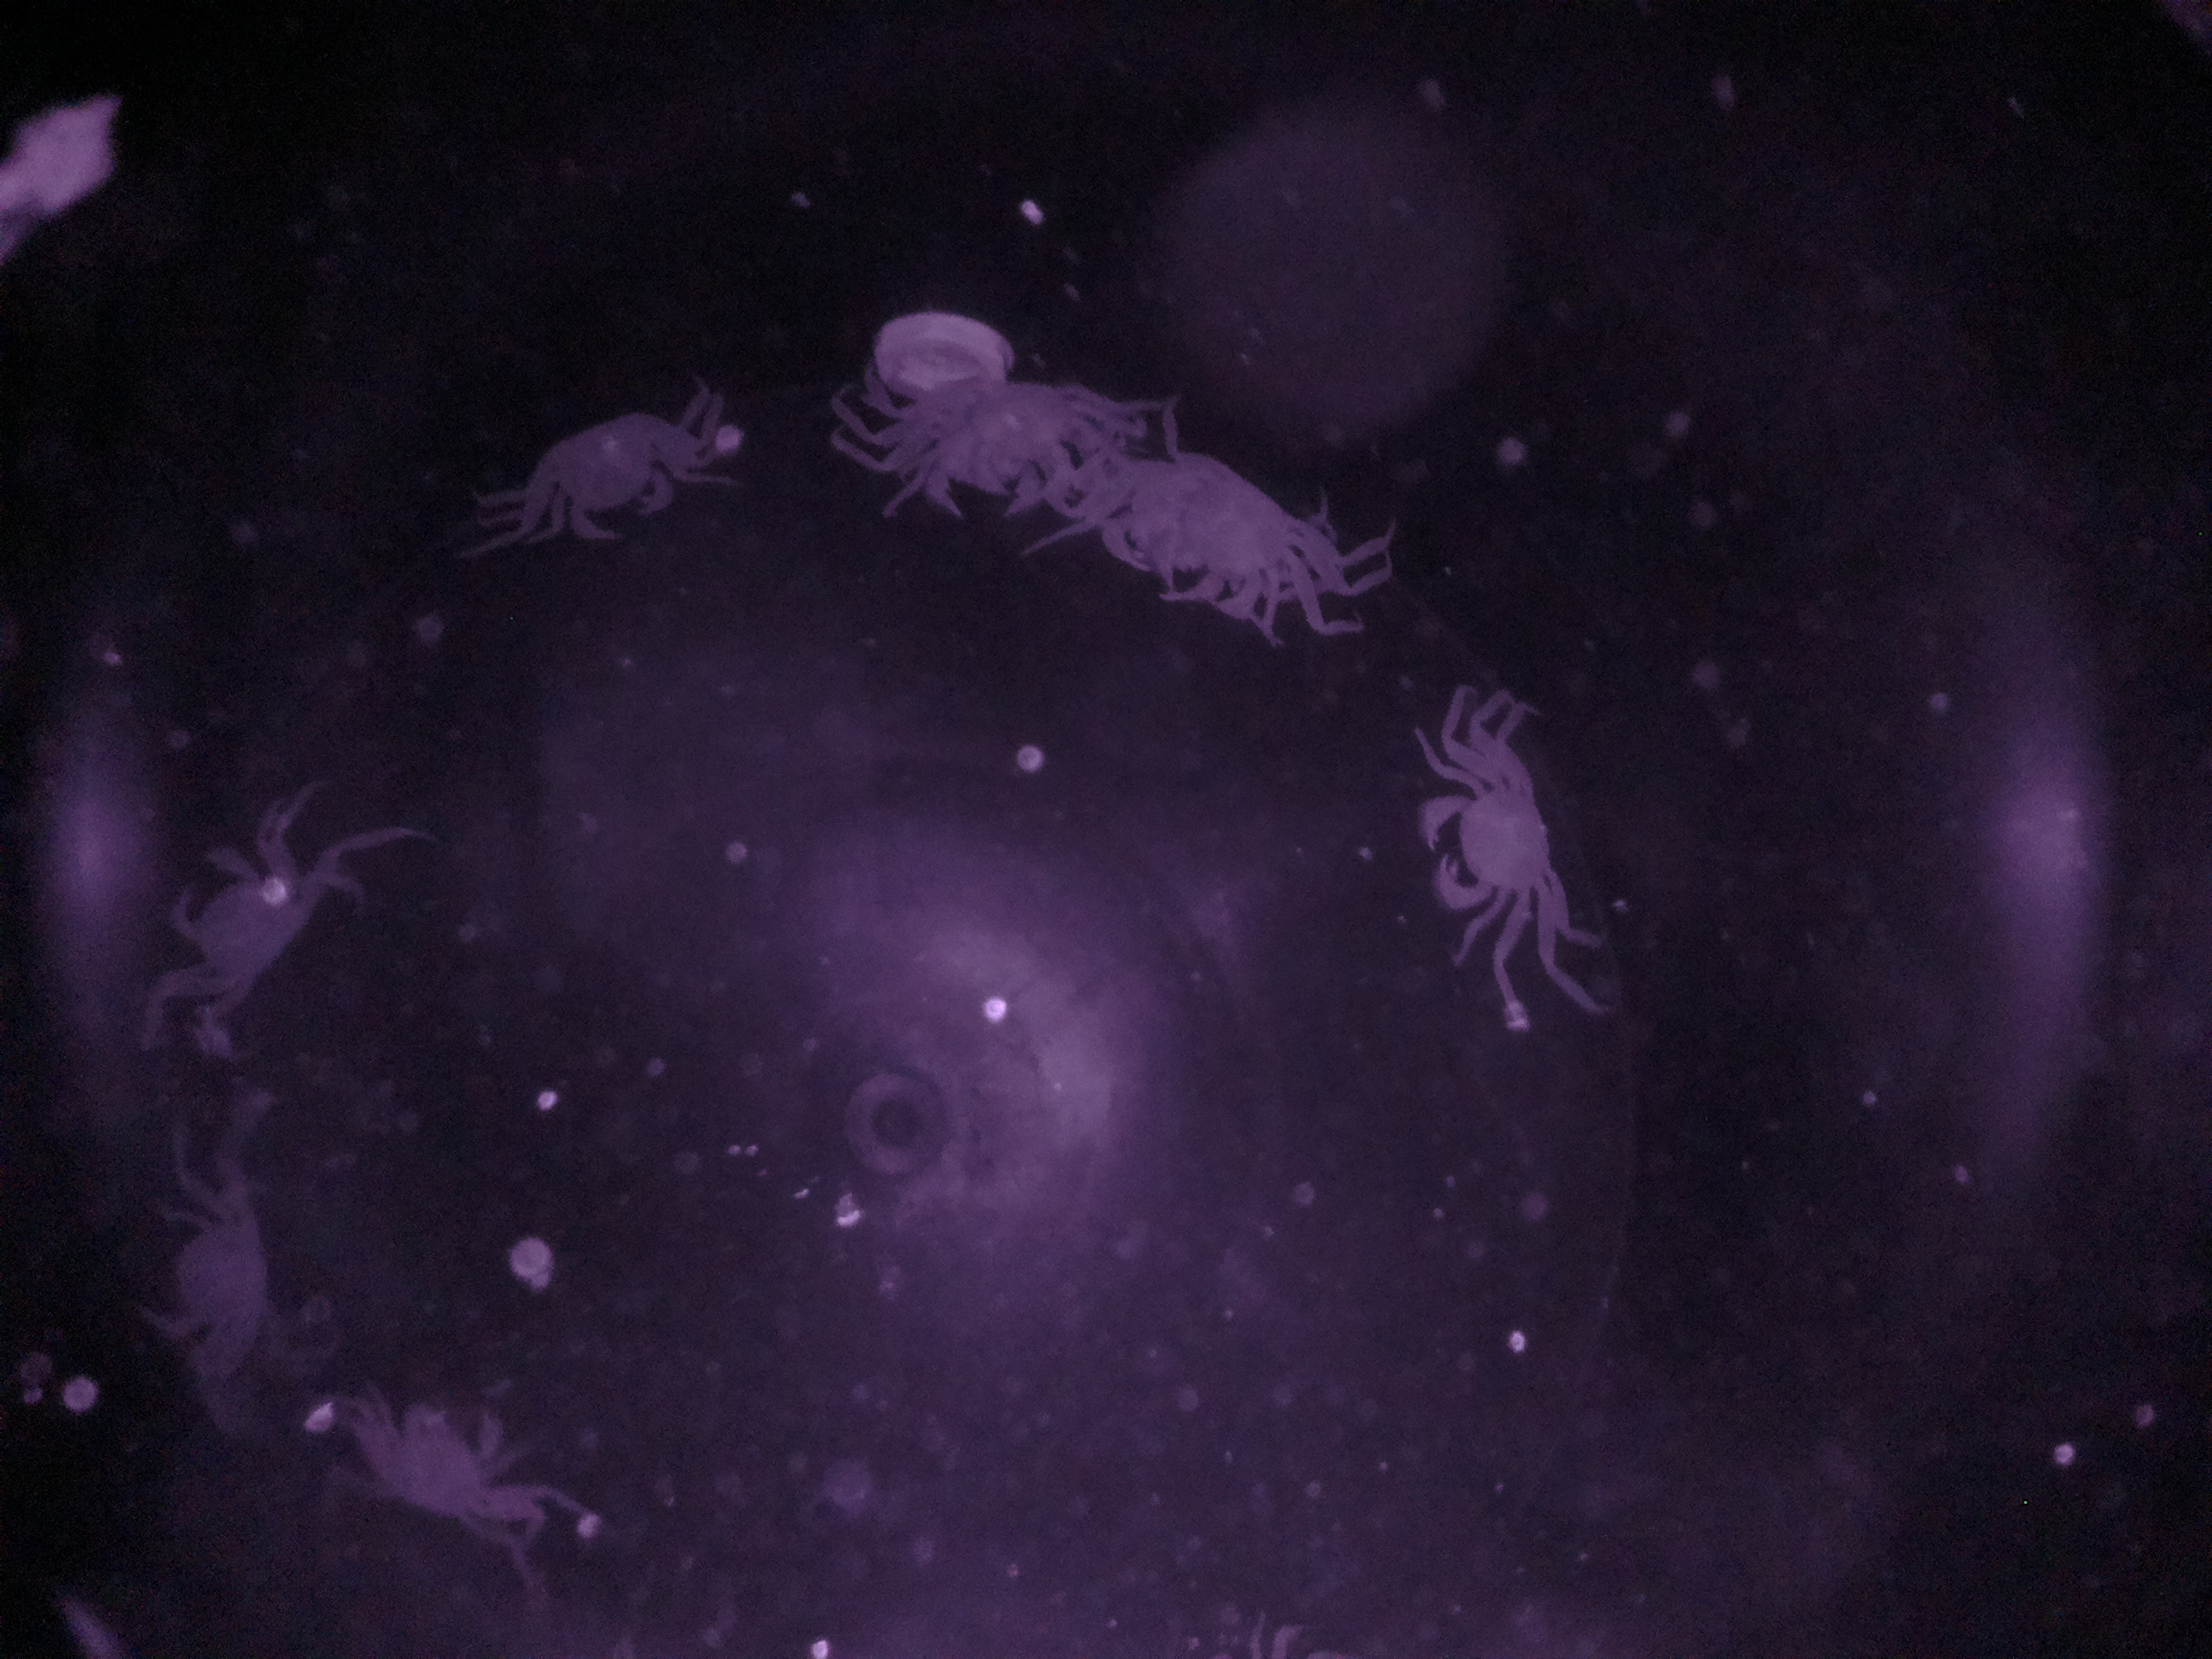Crab: (1402, 749, 1604, 955), (509, 396, 709, 566)
